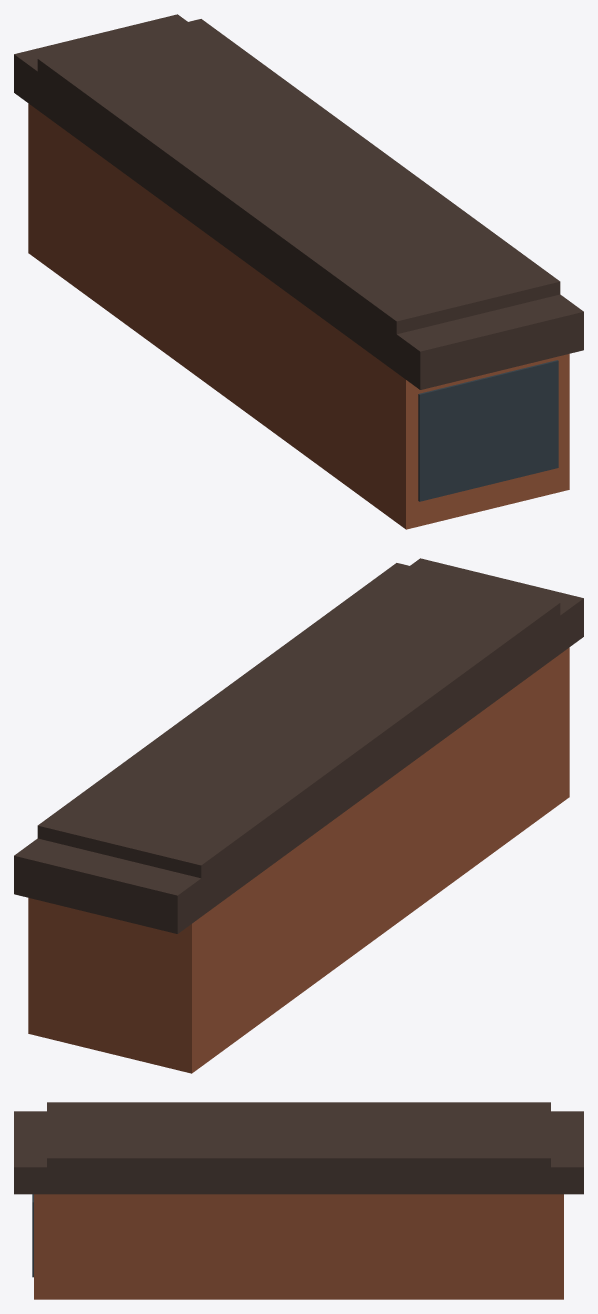
The model's file is pavilion-bay.glb.
3 views of the same model, one above another, from view 1: azimuth 30°, elevation 25°; view 2: azimuth 150°, elevation 25°; view 3: azimuth 270°, elevation 25° (orthographic). The views are drawn at different scales.
Visible parts, largest first — view 1: pavilion-bay; view 2: pavilion-bay; view 3: pavilion-bay.
Part boxes in pixels (<box>): pavilion-bay: <box>14,14,583,529</box>; pavilion-bay: <box>14,558,583,1073</box>; pavilion-bay: <box>14,1102,583,1299</box>.
Bounding box in the file's own units: 4 × 4.7 × 17.2.
